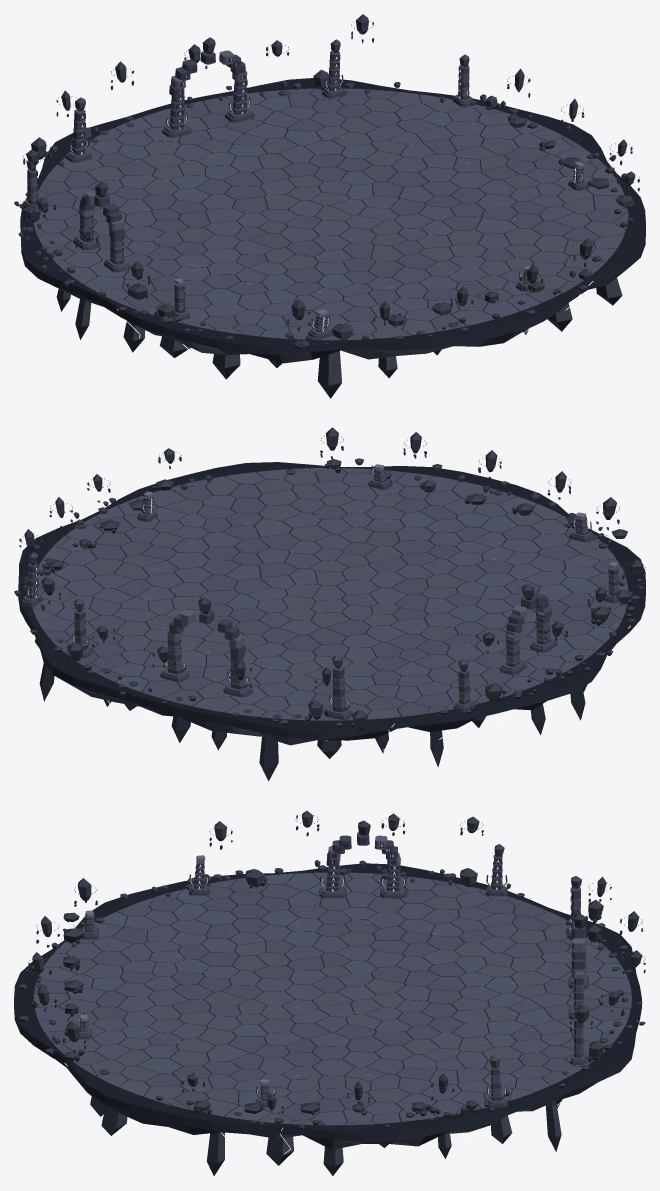
Rendered from raid-sanctum.glb.
The picture shows the model from 3 angles, top to bottom: view 1: azimuth 30°, elevation 25°; view 2: azimuth 150°, elevation 25°; view 3: azimuth 270°, elevation 25°; orthographic projection.
Parts seen in each view (by area): view 1: raid-sanctum-platform, raid-sanctum-basalt-shelf, raid-sanctum-shards, raid-sanctum-monoliths, raid-sanctum-inscriptions; view 2: raid-sanctum-platform, raid-sanctum-basalt-shelf, raid-sanctum-shards, raid-sanctum-monoliths, raid-sanctum-inscriptions; view 3: raid-sanctum-platform, raid-sanctum-basalt-shelf, raid-sanctum-shards, raid-sanctum-monoliths, raid-sanctum-inscriptions.
Boxes of the visible parts, bbox=[...] form: raid-sanctum-platform: bbox=[26, 88, 628, 344]; raid-sanctum-basalt-shelf: bbox=[20, 78, 645, 363]; raid-sanctum-shards: bbox=[14, 14, 639, 398]; raid-sanctum-monoliths: bbox=[22, 39, 588, 339]; raid-sanctum-inscriptions: bbox=[23, 21, 639, 331]; raid-sanctum-platform: bbox=[30, 468, 639, 723]; raid-sanctum-basalt-shelf: bbox=[18, 462, 645, 745]; raid-sanctum-shards: bbox=[14, 427, 645, 781]; raid-sanctum-monoliths: bbox=[21, 464, 619, 719]; raid-sanctum-inscriptions: bbox=[19, 436, 645, 710]; raid-sanctum-platform: bbox=[34, 869, 631, 1128]; raid-sanctum-basalt-shelf: bbox=[14, 863, 641, 1149]; raid-sanctum-shards: bbox=[19, 810, 645, 1175]; raid-sanctum-monoliths: bbox=[78, 832, 588, 1107]; raid-sanctum-inscriptions: bbox=[28, 815, 645, 1106].
Size of the model in its own units: 106 by 29.52 by 104.
